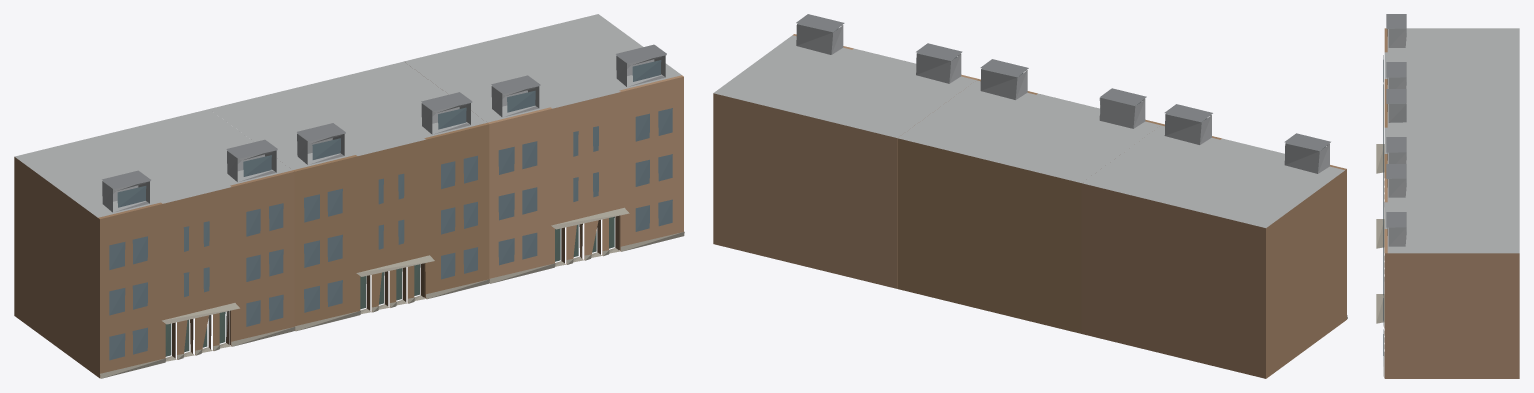
The model's file is chunk-face-callenburg-2-32-r2.lod2.glb.
The picture shows the model from 3 angles, left to right: view 1: azimuth 30°, elevation 25°; view 2: azimuth 150°, elevation 25°; view 3: azimuth 270°, elevation 25°; orthographic projection. The views are drawn at different scales.
Parts seen in each view (by area): view 1: lod2; view 2: lod2; view 3: lod2.
Part boxes in pixels (box(x1,y1,x2,y2)): lod2: box(14, 14, 684, 378); lod2: box(713, 14, 1347, 378); lod2: box(1376, 14, 1519, 378).
Size of the model in its own units: 38.42 by 11.63 by 10.35.
